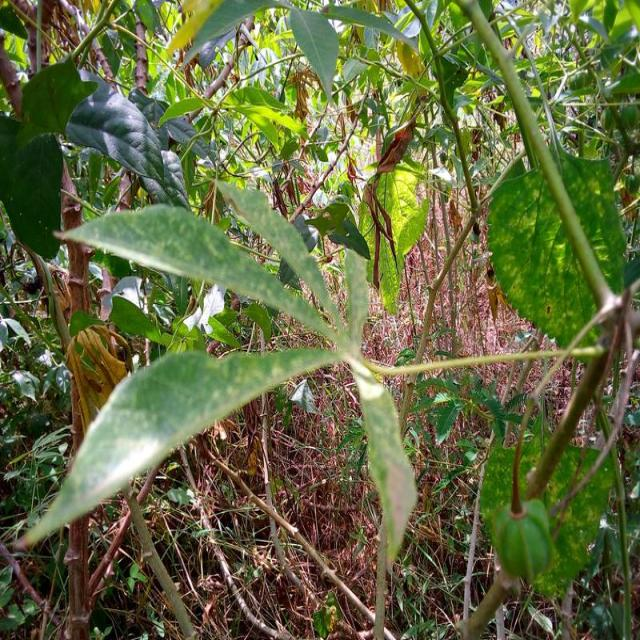cassava leaf: (18, 344, 344, 552), (54, 200, 343, 342), (486, 136, 627, 351), (478, 433, 618, 595), (357, 154, 431, 314)
